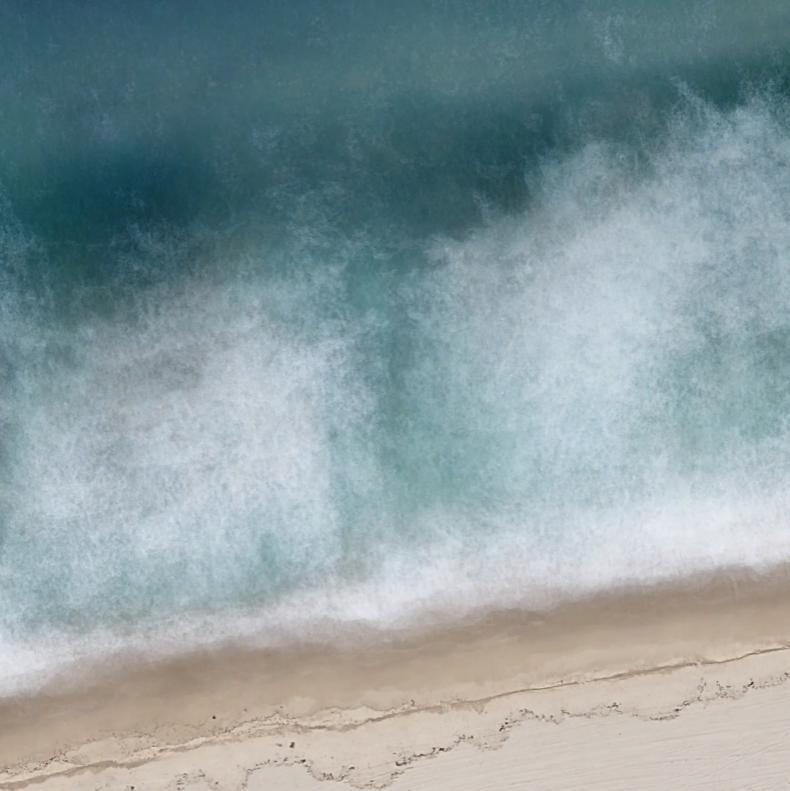rip_current: (251, 193, 529, 548)
